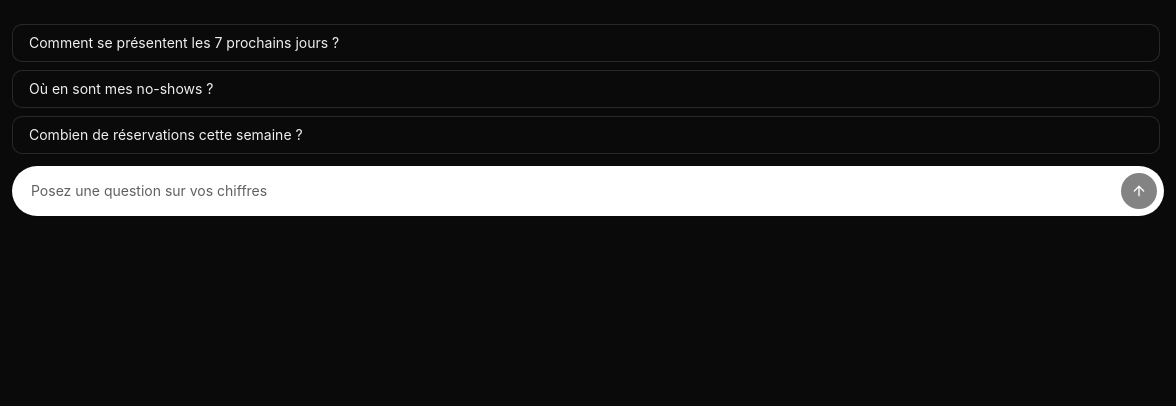
Test: CompanionPanel › un avis donné pendant une question en cours n’est pas effacé par la réponse suivante
Click the button "Comment se présentent les 7 prochains jours ?" at (184, 42), box [12,24,1160,62]
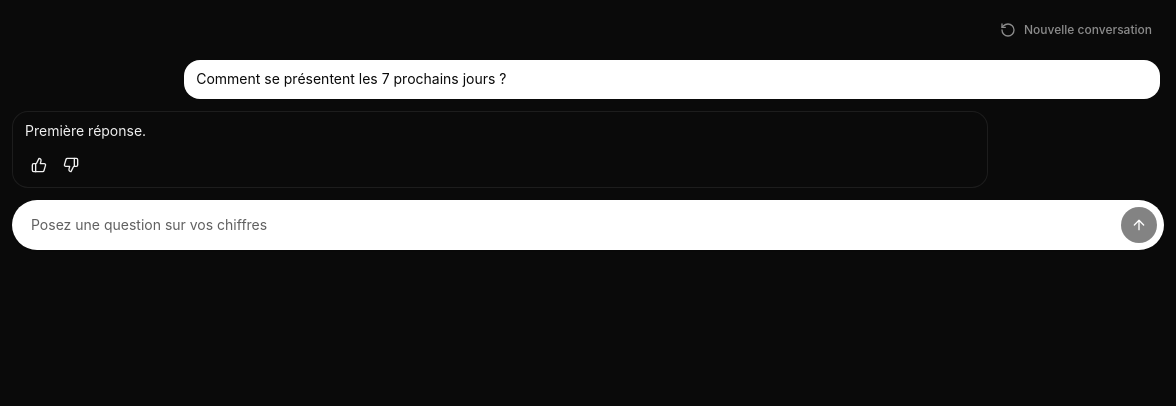
Check: the text "Première réponse." is shown, box [25,122,146,139]
Type "Et les no-shows ?" into the text box at (566, 224), box [19,206,1113,242]
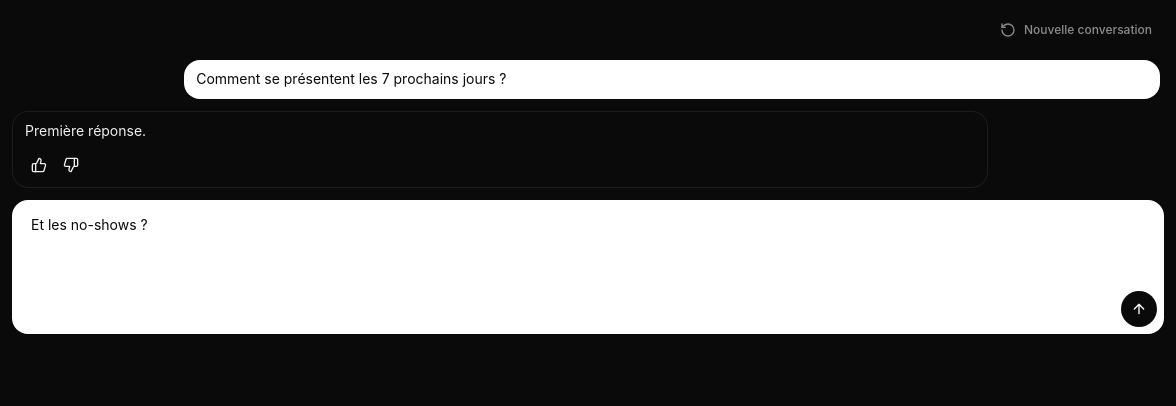
Press Enter in the text box, box [19,206,1157,282]
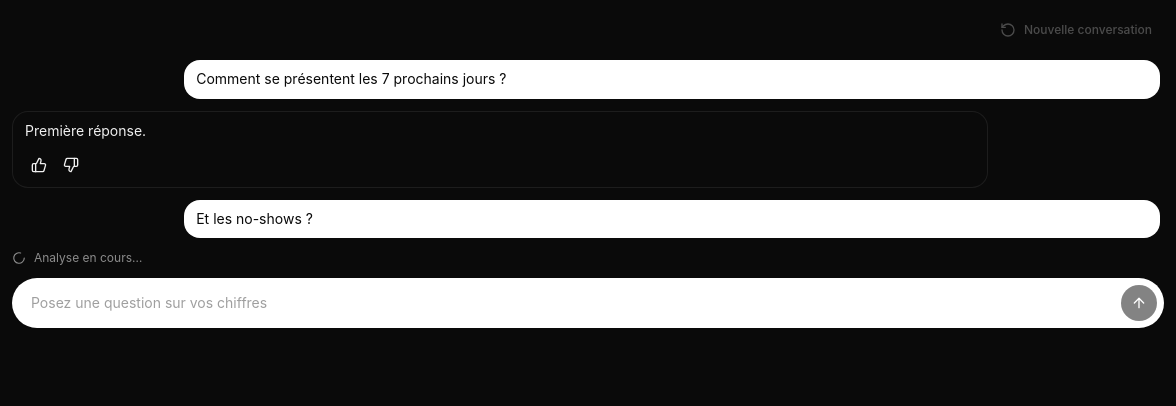
Click the button named "Réponse utile" at (39, 164), box [25,150,53,178]
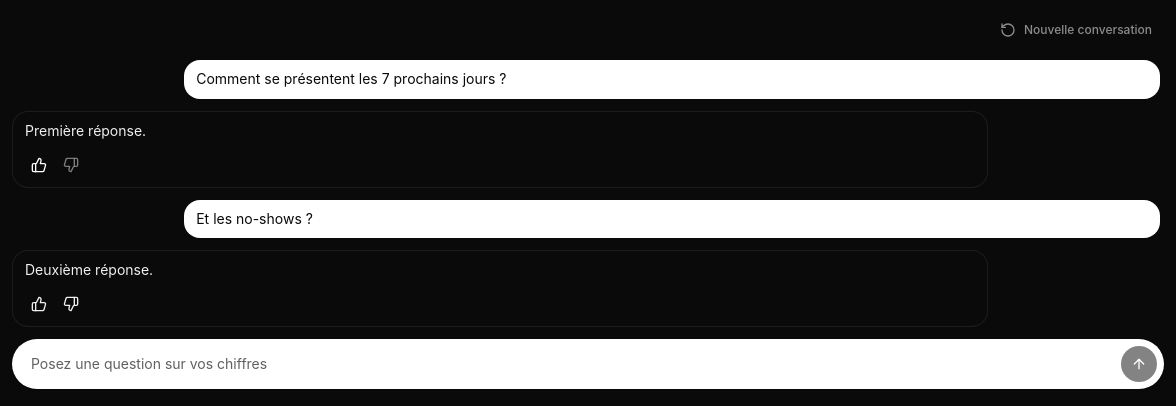
Check: the text "Deuxième réponse." is shown, box [25,261,153,278]
